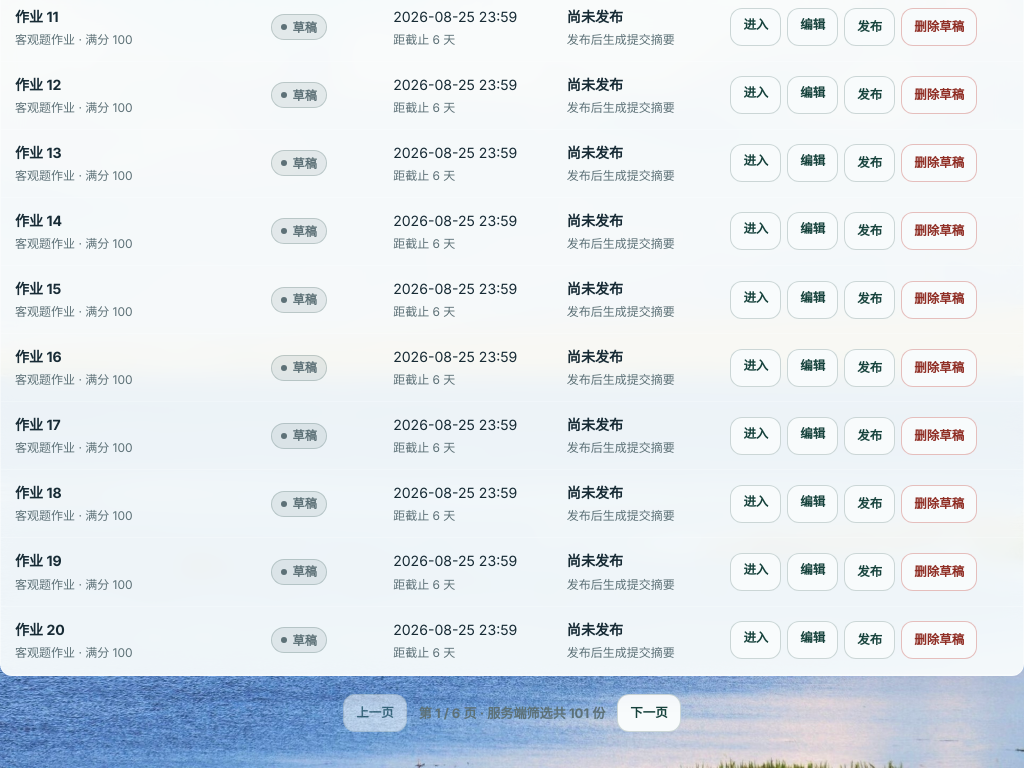
Test case: HomeworkTeacherView › uses the paginated list contract so homework after the first page remains reachable
The width and height of the screenshot is (1024, 768).
(page scrolled)
Click the button "下一页". click: x=649, y=713
box: 617,694 -> 681,732
(page scrolled)
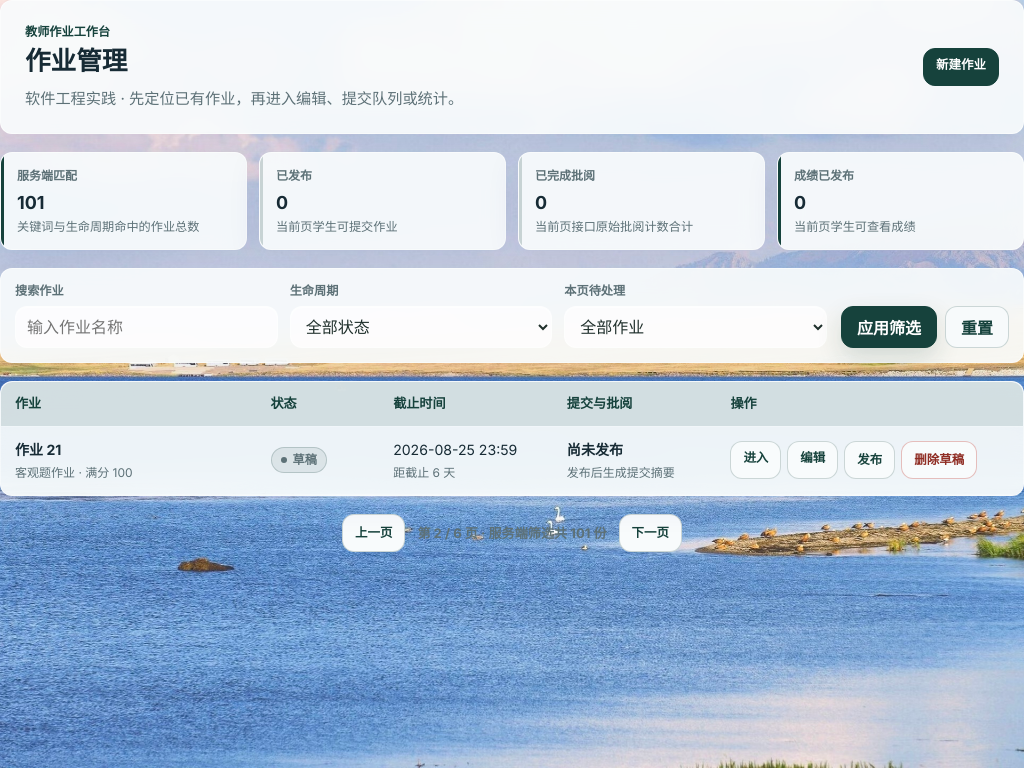
Expected: the text "作业 21" is shown, 15,440 -> 61,458
Expected: the text "第 2 / 6 页" is shown, 417,525 -> 607,541
